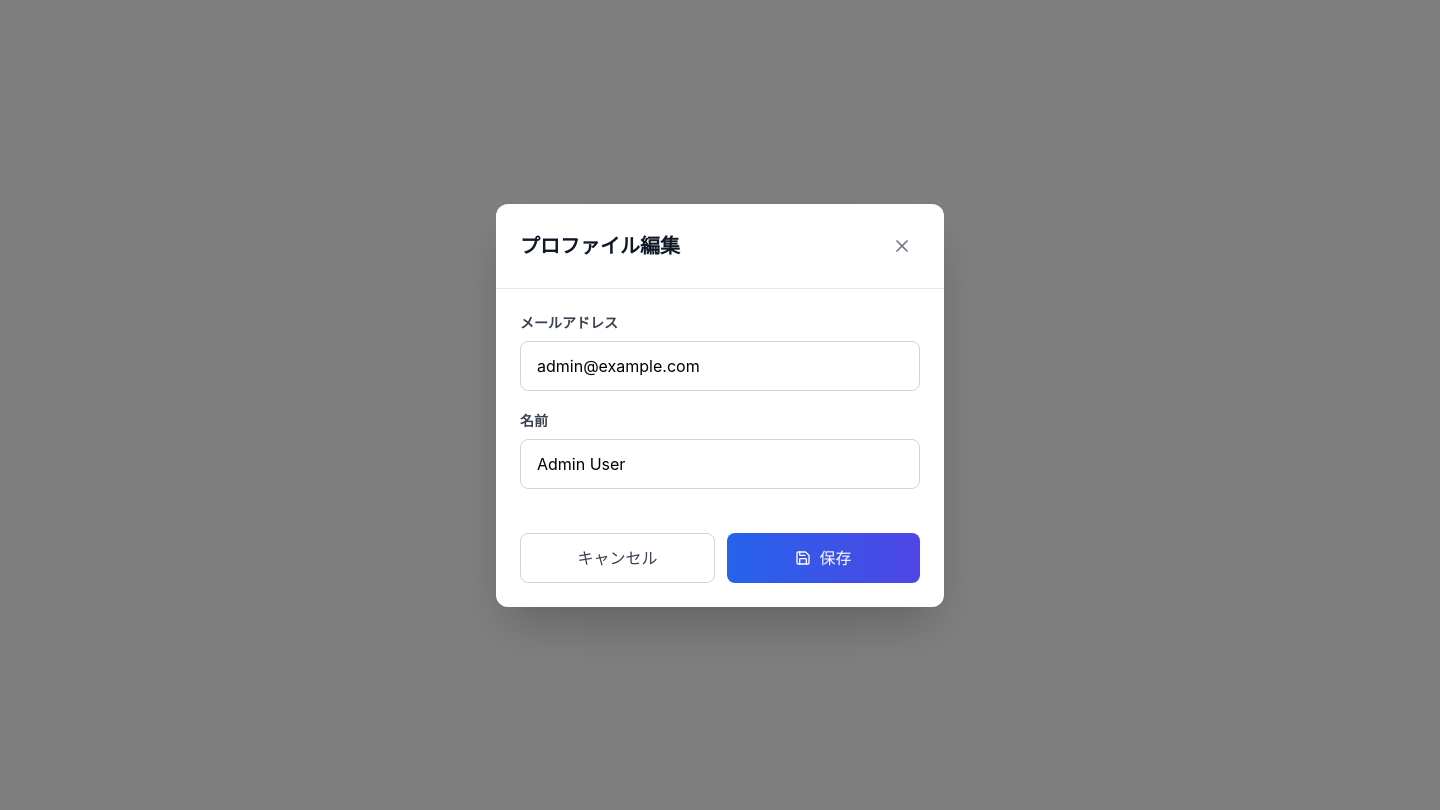
Test: ProfileEdit › handles API error gracefully
Replace the text in the field showing "Admin User" below "名前" with "Updated Admin" at (720, 464), box [520, 438, 920, 488]
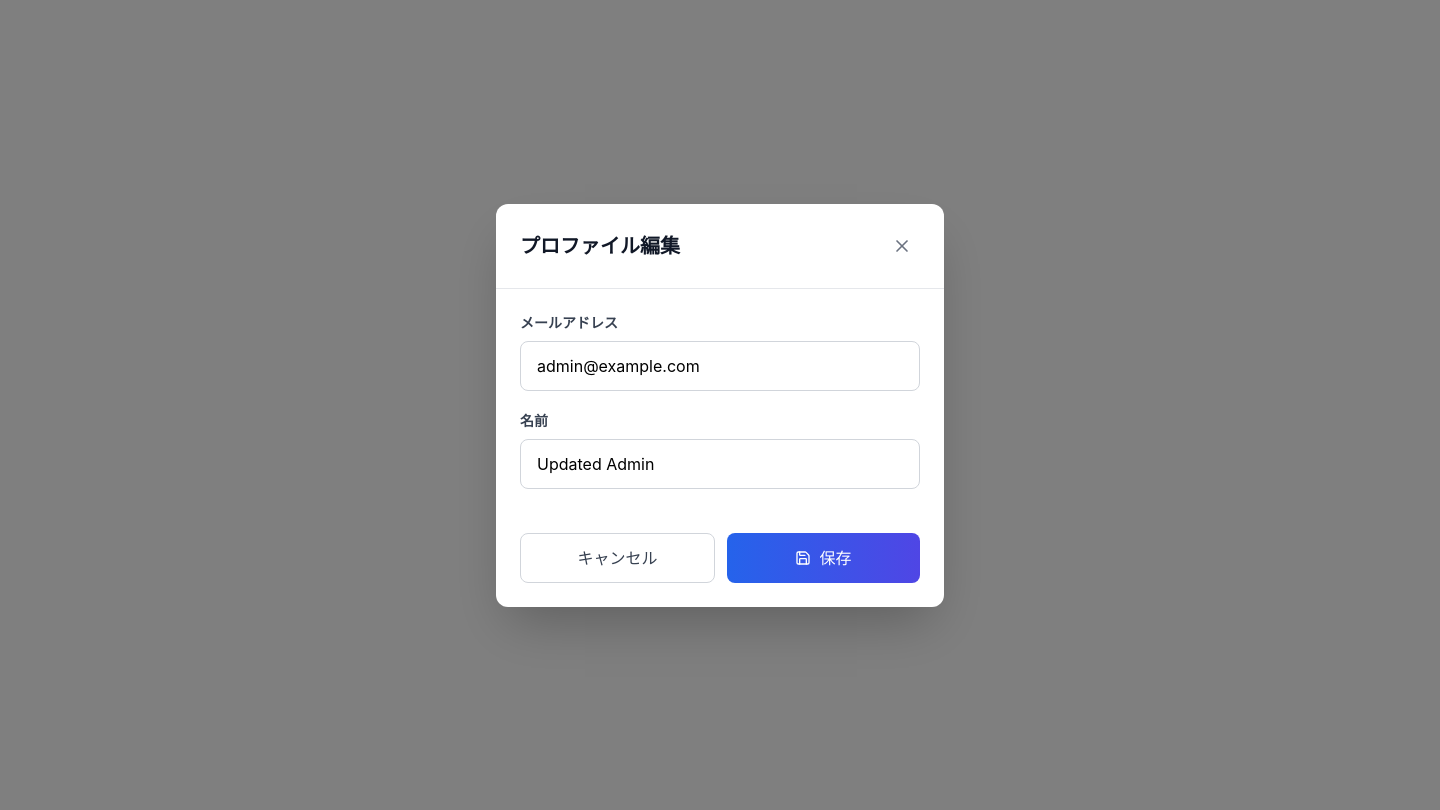
Click the button "保存" at (824, 558), box [727, 532, 920, 582]
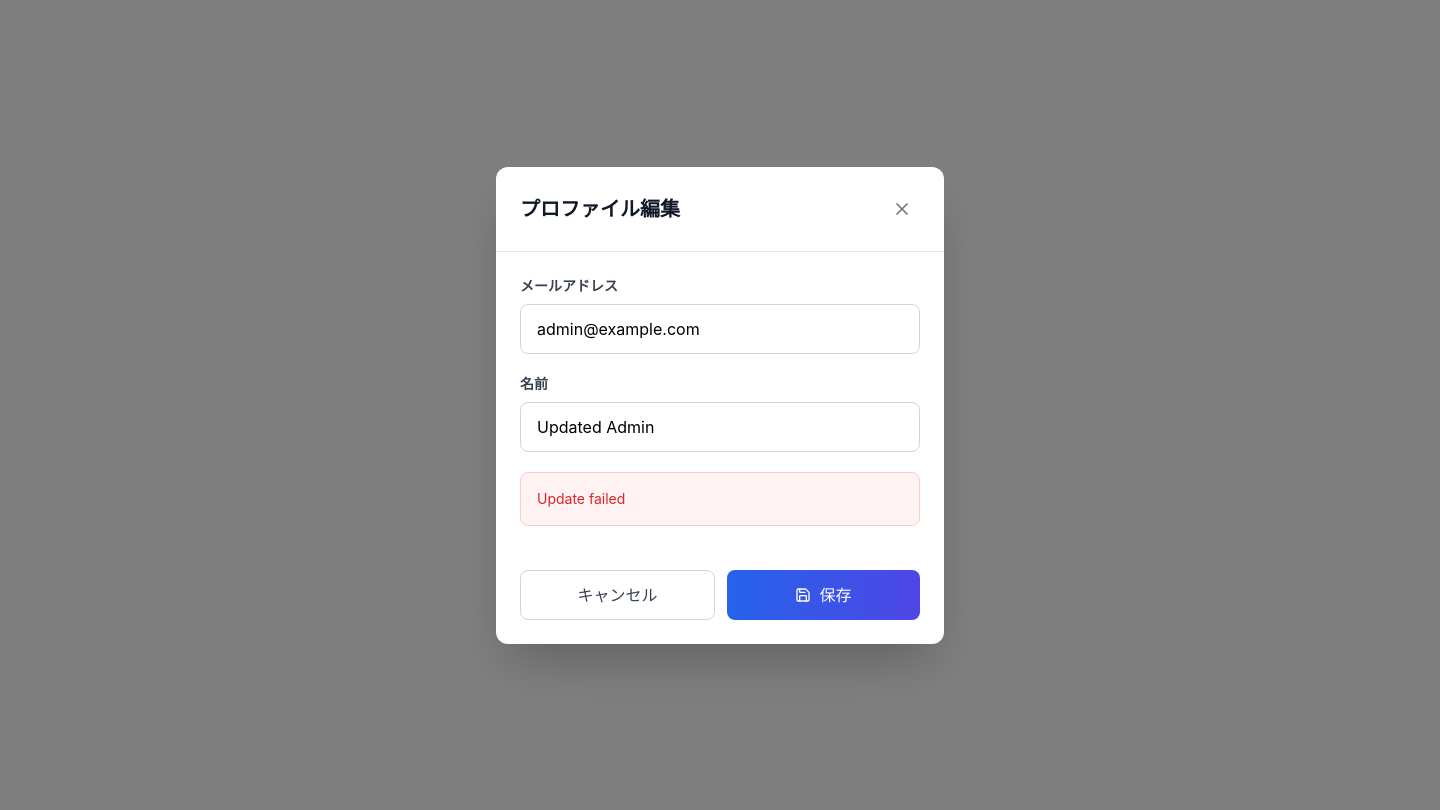
Result: the text "Update failed" is shown at [537, 490, 625, 506]
